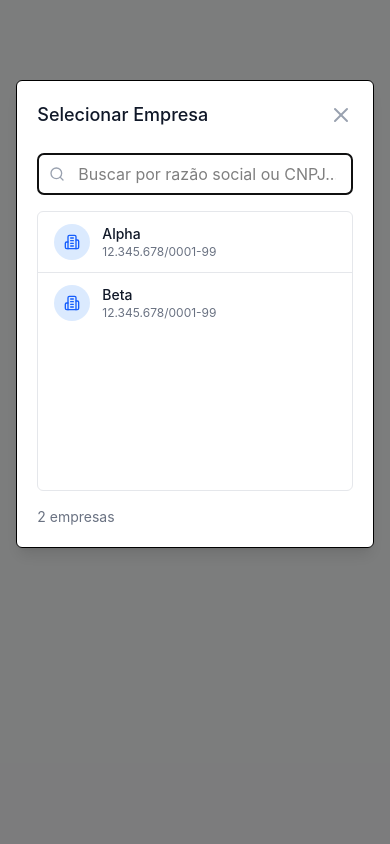
it: CompanySelectModal › renders companies and filters by razão social
expect the text "Alpha" is shown: met, box [102, 225, 141, 242]
expect the text "Beta" is shown: met, box [102, 286, 132, 303]
In the field with placeholder "Buscar por razão social ou CNPJ...": (195, 174) [37, 153, 353, 195], type "alpha"
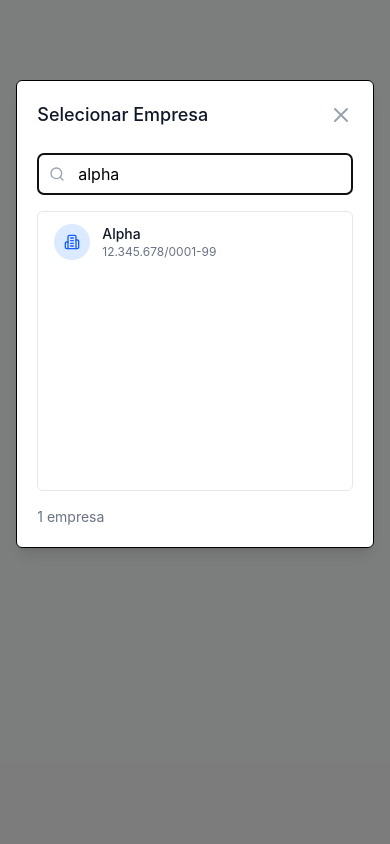
expect the button "Beta" is gone: met
